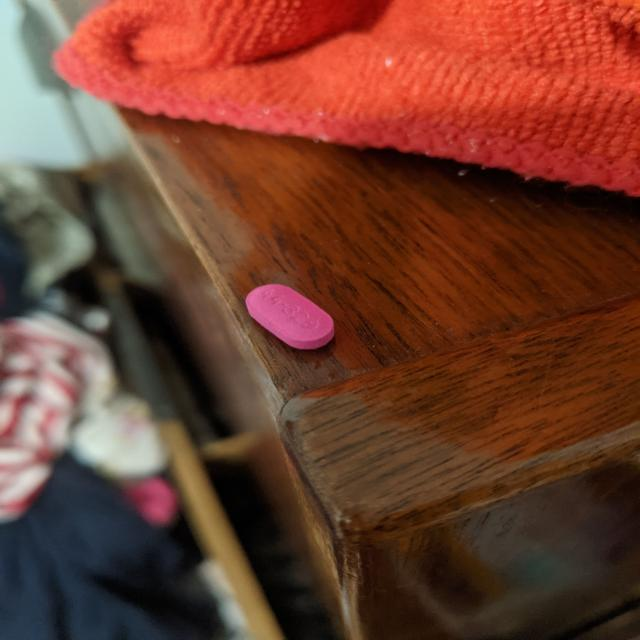non-organic waste: (245, 282, 336, 350)
